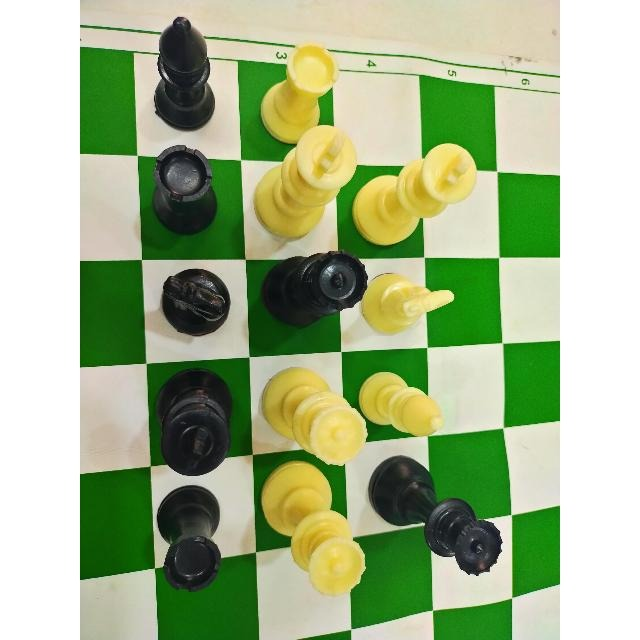black-bishop: (136, 17, 224, 133)
black-king: (150, 358, 238, 479)
black-knight: (152, 263, 236, 341)
black-queen: (366, 452, 503, 584), (260, 248, 368, 335)
black-rook: (151, 482, 226, 591), (135, 142, 220, 238)
white-bishop: (356, 370, 444, 450)
white-king: (352, 125, 475, 248), (252, 122, 356, 247)
white-knight: (364, 262, 457, 334)
white-queen: (258, 461, 368, 599), (254, 368, 369, 476)
white-rook: (252, 42, 340, 144)
